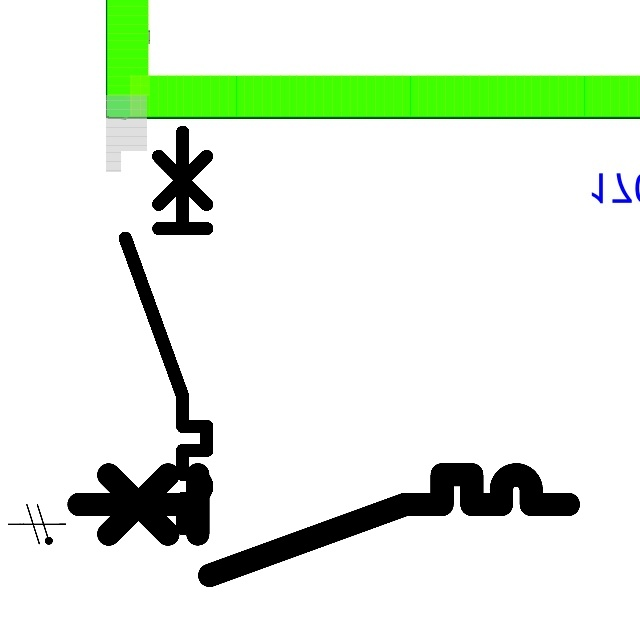interruptor_termomagnetico: (66, 462, 581, 588), (115, 122, 217, 539)
